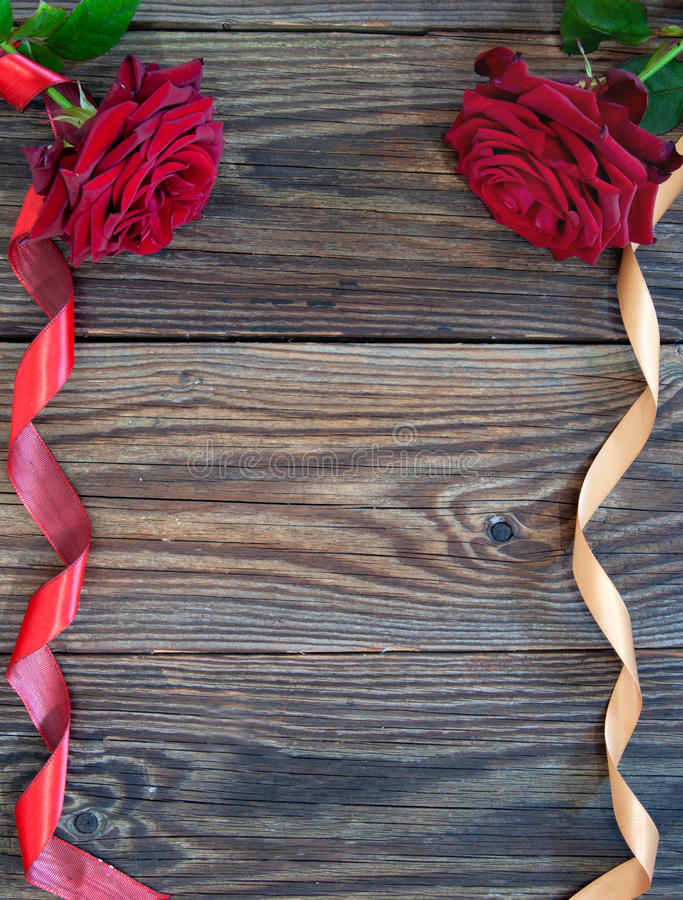RedRose: (0, 74, 241, 273), (453, 66, 658, 260)
